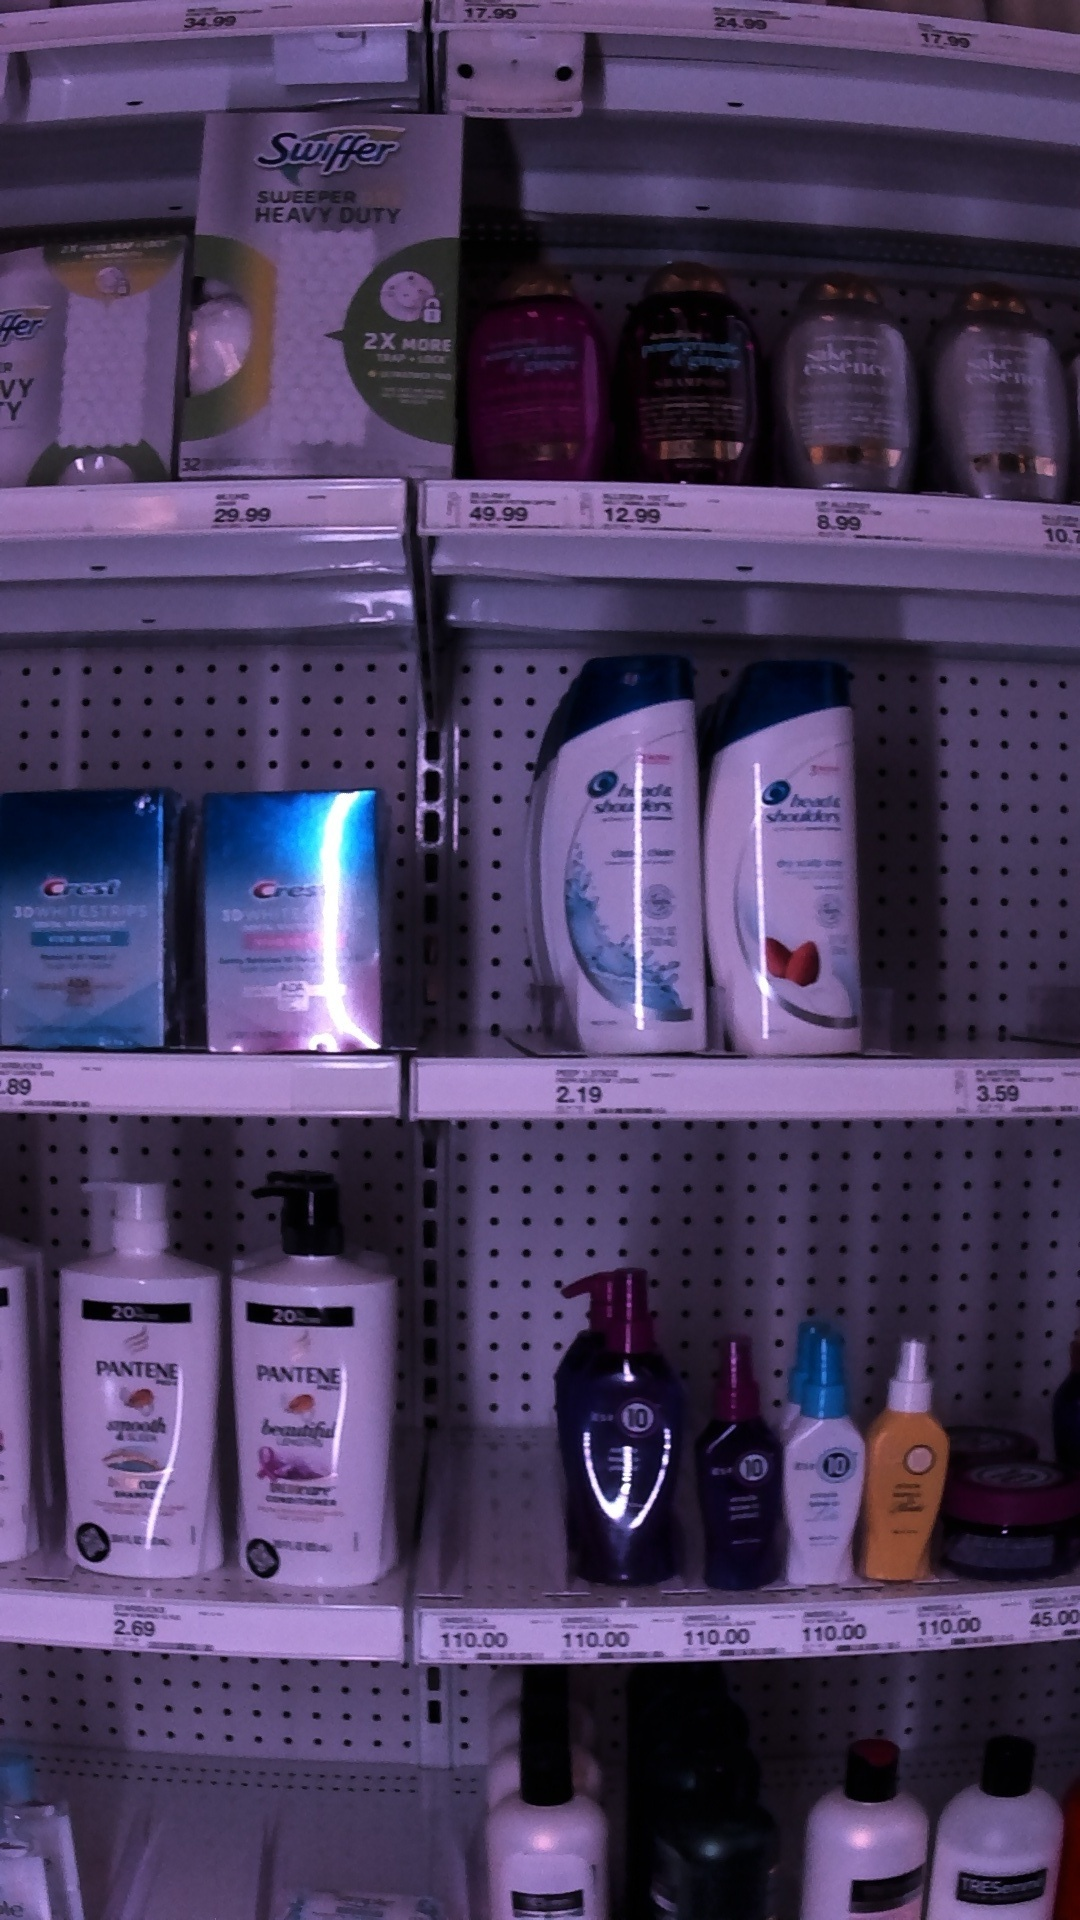ptag: (431, 475, 575, 545), (546, 1054, 675, 1129), (800, 487, 938, 555), (104, 1593, 229, 1665), (411, 1602, 549, 1665), (193, 477, 338, 537), (597, 475, 724, 542), (951, 1060, 1080, 1120), (1, 1044, 109, 1112), (564, 1604, 666, 1673), (680, 1606, 786, 1673), (913, 1592, 1015, 1660), (798, 1600, 905, 1662), (899, 11, 1015, 66), (156, 1, 273, 42), (698, 1, 822, 37), (1025, 1582, 1080, 1652)
